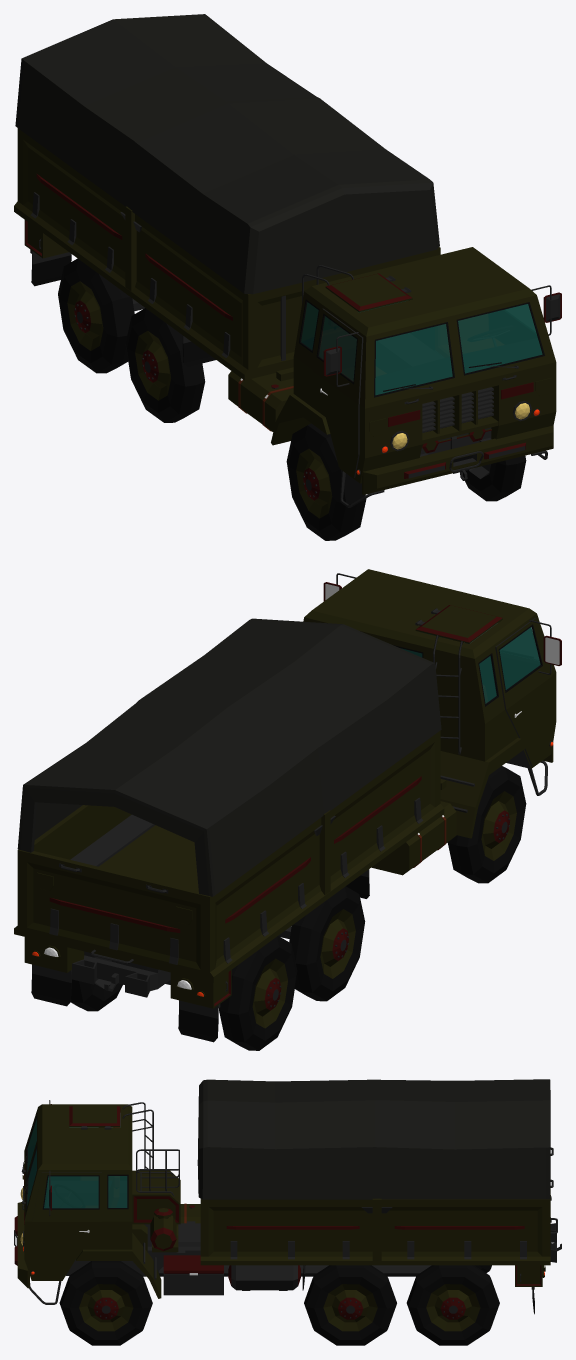
The model's file is MilitaryTruck_04.FBX.
The picture shows the model from 3 angles, top to bottom: view 1: azimuth 30°, elevation 25°; view 2: azimuth 150°, elevation 25°; view 3: azimuth 270°, elevation 25°; orthographic projection. The views are drawn at different scales.
Visible parts, largest first — view 1: tarpaulin, MilitaryTruck_04, interior, wheel_b2_r, wheel_b1_r, wheel_f_r, bumper, tank_r, hatch, grill, wheel_f_l; view 2: MilitaryTruck_04, tarpaulin, wheel_b2_r, wheel_b1_r, wheel_f_r, tank_r, interior, hatch, wheel_b2_l, mirror_r, ladder; view 3: MilitaryTruck_04, tarpaulin, wheel_f_l, wheel_b1_l, wheel_b2_l, interior, toolBox, tank_l, hatch, bumper, ladder, tank_r.
Boxes of the visible parts, x1,y1,x2,y2 form: tarpaulin: (15,14,439,294); MilitaryTruck_04: (14,128,556,507); interior: (301,291,541,394); wheel_b2_r: (58,258,134,373); wheel_b1_r: (125,308,205,422); wheel_f_r: (286,423,366,540); bumper: (362,425,553,494); tank_r: (228,371,293,431); hatch: (325,273,412,312); grill: (422,387,493,433); wheel_f_l: (462,455,526,501); MilitaryTruck_04: (14,569,556,1042); tarpaulin: (17,618,441,896); wheel_b2_r: (219,936,297,1050); wheel_b1_r: (289,886,365,1001); wheel_f_r: (447,766,526,883); tank_r: (371,801,456,875); interior: (401,623,540,703); hatch: (415,605,502,643); wheel_b2_l: (71,961,122,1011); mirror_r: (529,620,561,674); ladder: (433,635,462,754); MilitaryTruck_04: (22,1104,561,1314); tarpaulin: (197,1079,550,1199); wheel_f_l: (59,1261,152,1345); wheel_b1_l: (304,1265,396,1345); wheel_b2_l: (406,1265,499,1345); interior: (28,1111,126,1207); toolBox: (163,1255,223,1295); tank_l: (228,1265,300,1290); hatch: (69,1106,120,1129); bumper: (14,1202,29,1288); ladder: (122,1102,153,1168); tank_r: (180,1203,200,1223).
Size of the model in its own units: 32.23 by 36.43 by 84.9.
